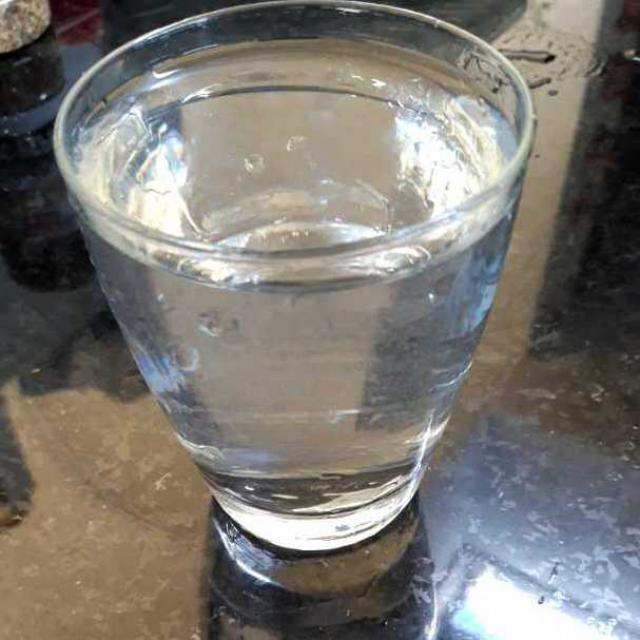water: (84, 60, 514, 516)
